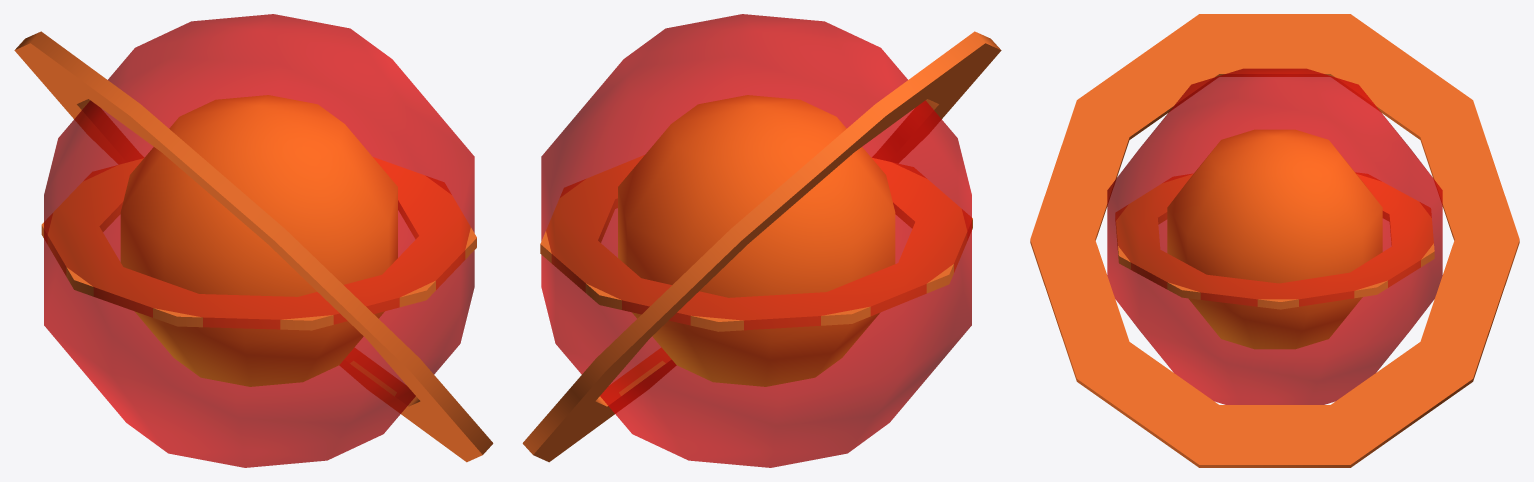
The model's file is Enemy_Attack12.obj.
The picture shows the model from 3 angles, left to right: view 1: azimuth 30°, elevation 25°; view 2: azimuth 150°, elevation 25°; view 3: azimuth 270°, elevation 25°; orthographic projection. The views are drawn at different scales.
Visible parts, largest first — view 1: Sphere002, Sphere001, Tube002, Tube001; view 2: Sphere002, Sphere001, Tube002, Tube001; view 3: Sphere002, Tube001, Sphere001, Tube002.
Boxes of the visible parts, <box> form: Sphere002: <box>44,14,474,467</box>; Sphere001: <box>120,95,397,386</box>; Tube002: <box>41,157,476,330</box>; Tube001: <box>14,31,493,462</box>; Sphere002: <box>541,14,971,467</box>; Sphere001: <box>618,95,895,386</box>; Tube002: <box>540,155,972,331</box>; Tube001: <box>522,31,1001,462</box>; Sphere002: <box>1107,68,1442,404</box>; Tube001: <box>1030,14,1519,467</box>; Sphere001: <box>1167,129,1382,349</box>; Tube002: <box>1115,173,1434,309</box>.
Bounding box in the file's own units: 21.52 × 23.81 × 31.73.
